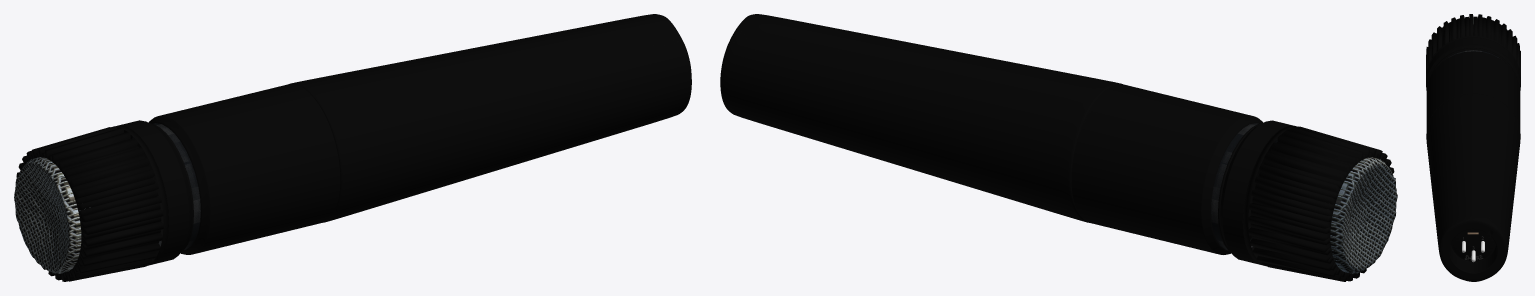
File: shure_sm57_dynamic_microphone.glb
The picture shows the model from 3 angles, left to right: view 1: azimuth 30°, elevation 25°; view 2: azimuth 150°, elevation 25°; view 3: azimuth 270°, elevation 25°; orthographic projection. The views are drawn at different scales.
Visible parts, largest first — view 1: Cylinder.001_6, mid body_11, new face_14, Cylinder.003_7, Cylinder.002_13, Cylinder_5, mid mesh_12, Cylinder.007_15; view 2: Cylinder.001_6, mid body_11, new face_14, Cylinder.003_7, Cylinder.002_13, Cylinder_5, mid mesh_12, Cylinder.007_15; view 3: Cylinder.001_6, mid body_11, new face_14, Cylinder_5, Cylinder.002_13, Cylinder.007_15, mid mesh_12.
Boxes of the visible parts, bbox=[...] form: Cylinder.001_6: bbox=[290, 14, 691, 222]; mid body_11: bbox=[143, 84, 340, 254]; new face_14: bbox=[16, 126, 163, 281]; Cylinder.003_7: bbox=[14, 157, 81, 273]; Cylinder.002_13: bbox=[117, 120, 189, 265]; Cylinder_5: bbox=[124, 115, 210, 254]; mid mesh_12: bbox=[132, 123, 200, 250]; Cylinder.007_15: bbox=[115, 125, 168, 265]; Cylinder.001_6: bbox=[720, 14, 1122, 222]; mid body_11: bbox=[1071, 84, 1271, 254]; new face_14: bbox=[1248, 126, 1395, 281]; Cylinder.003_7: bbox=[1330, 157, 1397, 273]; Cylinder.002_13: bbox=[1222, 120, 1297, 263]; Cylinder_5: bbox=[1121, 84, 1284, 256]; mid mesh_12: bbox=[1211, 123, 1277, 250]; Cylinder.007_15: bbox=[1242, 125, 1297, 265]; Cylinder.001_6: bbox=[1426, 93, 1520, 281]; mid body_11: bbox=[1426, 51, 1520, 130]; new face_14: bbox=[1426, 14, 1520, 77]; Cylinder_5: bbox=[1426, 44, 1520, 121]; Cylinder.002_13: bbox=[1426, 37, 1520, 86]; Cylinder.007_15: bbox=[1426, 35, 1520, 79]; mid mesh_12: bbox=[1445, 50, 1501, 59].
Bounding box in the file's own units: 3.53 × 0.7049 × 0.7049.
Materials: 10 (5 with a texture image).
